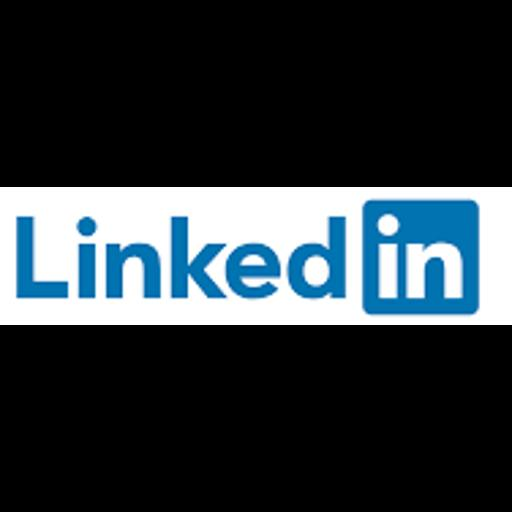LinkedIn Corporation: (0, 187, 512, 325)
